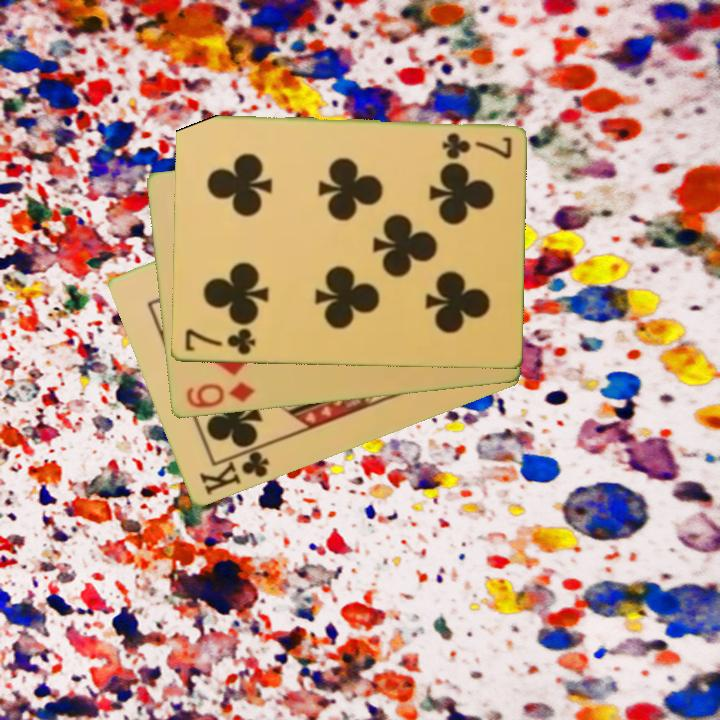6d: (182, 378, 257, 412)
7c: (181, 325, 258, 358), (438, 130, 514, 160)
Kc: (195, 442, 272, 499)
